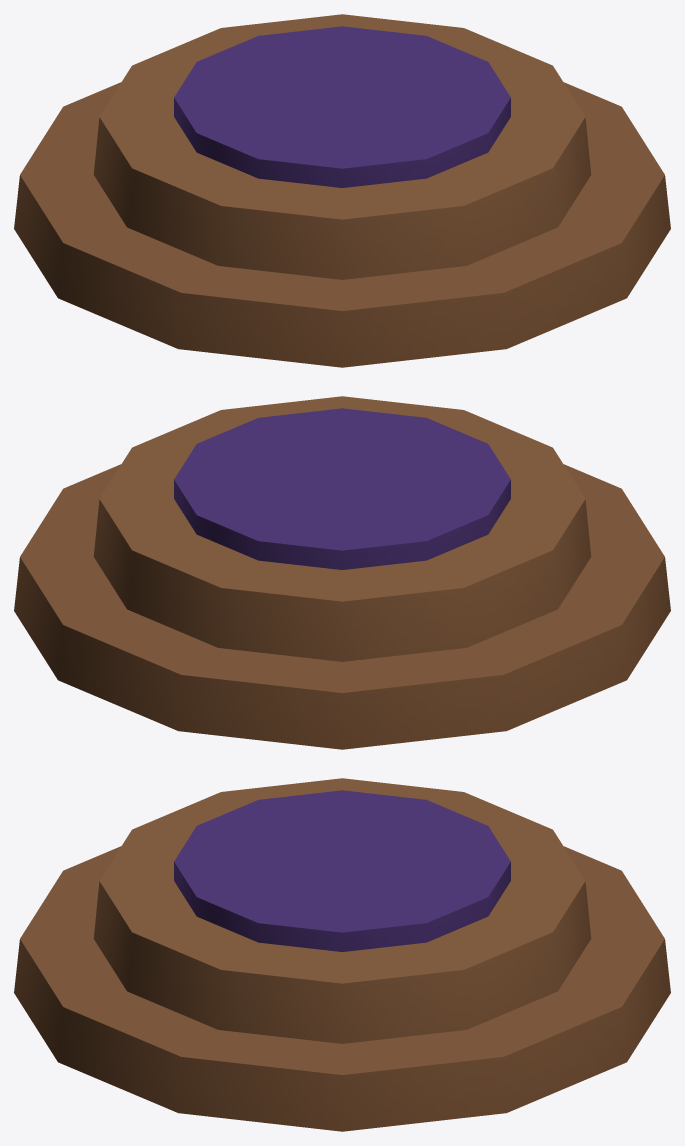
File: ClocheBase1.fbx
3 views of the same model, one above another, from view 1: azimuth 30°, elevation 25°; view 2: azimuth 150°, elevation 25°; view 3: azimuth 270°, elevation 25° (orthographic).
Parts seen in each view (by area): view 1: ClocheBase1; view 2: ClocheBase1; view 3: ClocheBase1.
Boxes of the visible parts, x1,y1,x2,y2 form: ClocheBase1: (14,14,670,367); ClocheBase1: (14,396,670,749); ClocheBase1: (14,778,670,1131).
Size of the model in its own units: 29.97 by 6.61 by 29.97.
